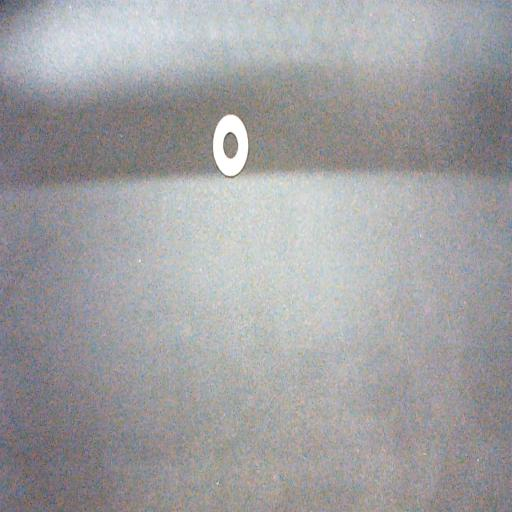washer: (213, 114, 248, 177)
